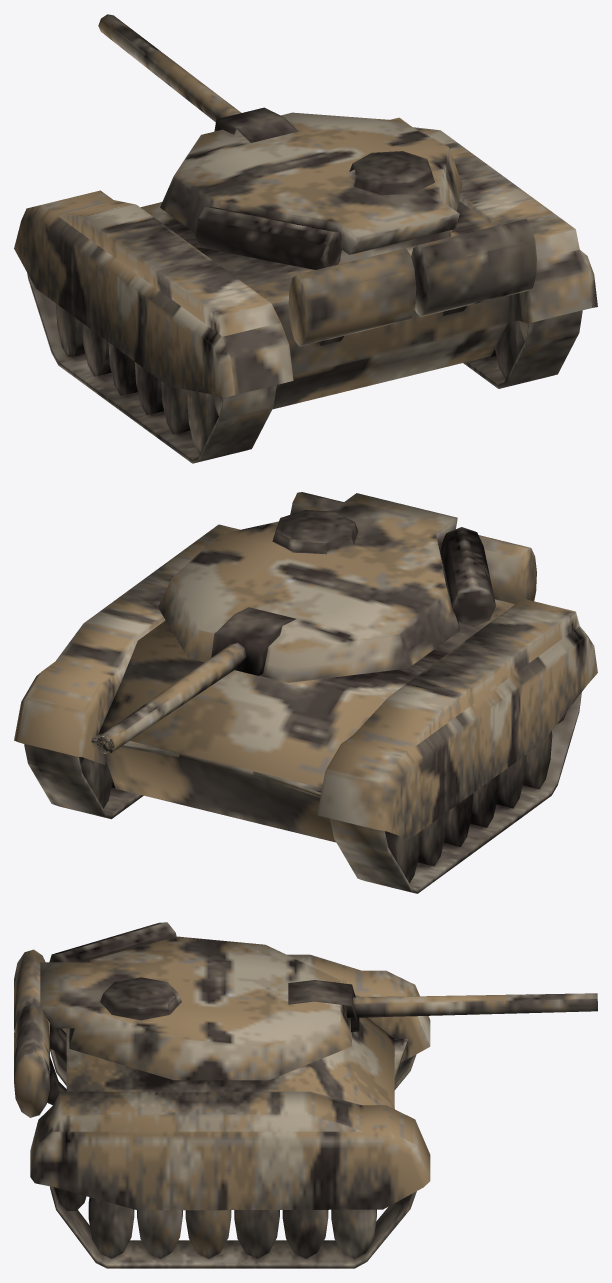
Rendered from t72_tank.obj.
3 views of the same model, one above another, from view 1: azimuth 30°, elevation 25°; view 2: azimuth 150°, elevation 25°; view 3: azimuth 270°, elevation 25° (orthographic). The views are drawn at different scales.
Parts seen in each view (by area): view 1: T-27_Tank.000_Cube.001; view 2: T-27_Tank.000_Cube.001; view 3: T-27_Tank.000_Cube.001.
Part boxes in pixels (x1=…): T-27_Tank.000_Cube.001: x1=14, y1=14, x2=597, y2=463; T-27_Tank.000_Cube.001: x1=14, y1=492, x2=597, y2=893; T-27_Tank.000_Cube.001: x1=14, y1=922, x2=597, y2=1268.
Bounding box in the file's own units: 2.58 × 1.53 × 3.79.
